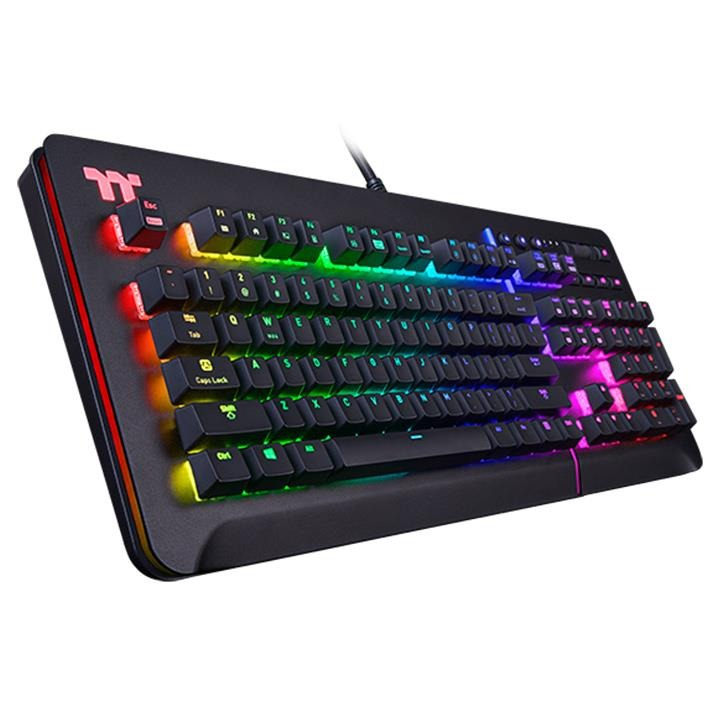keyboard: (4, 127, 709, 576)
